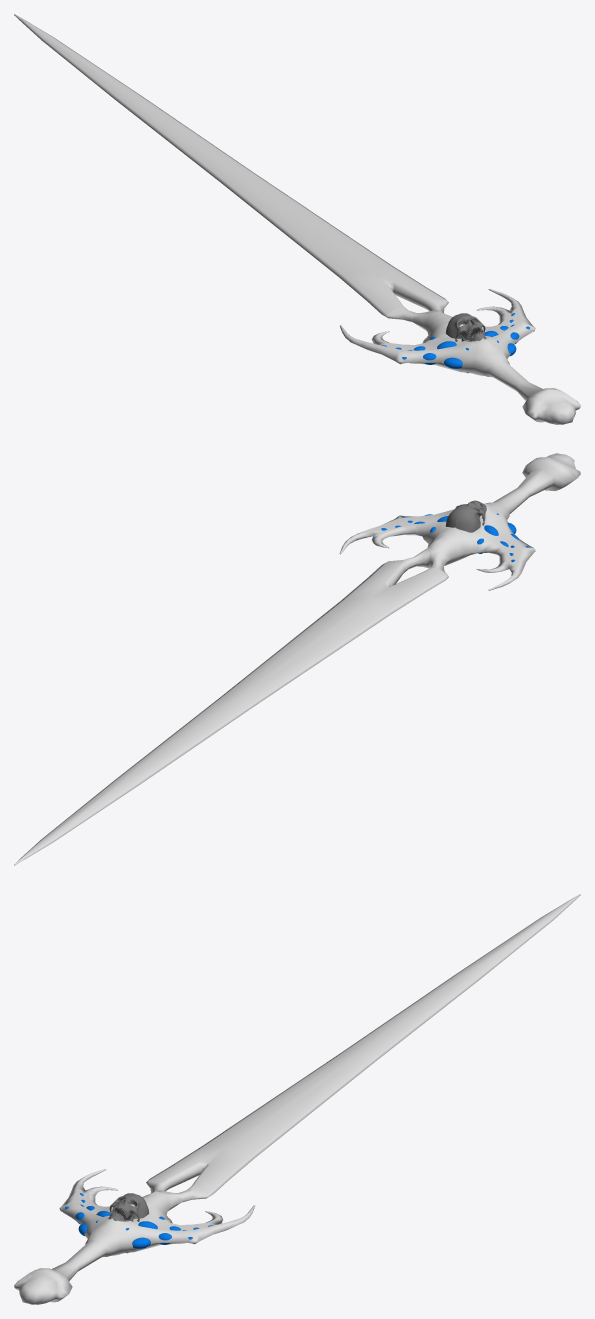
File: SWORD.fbx
3 renders of one model, top to bottom at view 1: azimuth 30°, elevation 25°; view 2: azimuth 150°, elevation 25°; view 3: azimuth 330°, elevation 25°, orthographic.
Parts seen in each view (by area): view 1: Sphere; view 2: Sphere; view 3: Sphere.
Boxes of the visible parts, bbox=[...] form: Sphere: bbox=[14, 14, 580, 424]; Sphere: bbox=[14, 453, 580, 865]; Sphere: bbox=[14, 894, 580, 1304].
Bounding box in the file's own units: 18.13 × 4.96 × 104.
